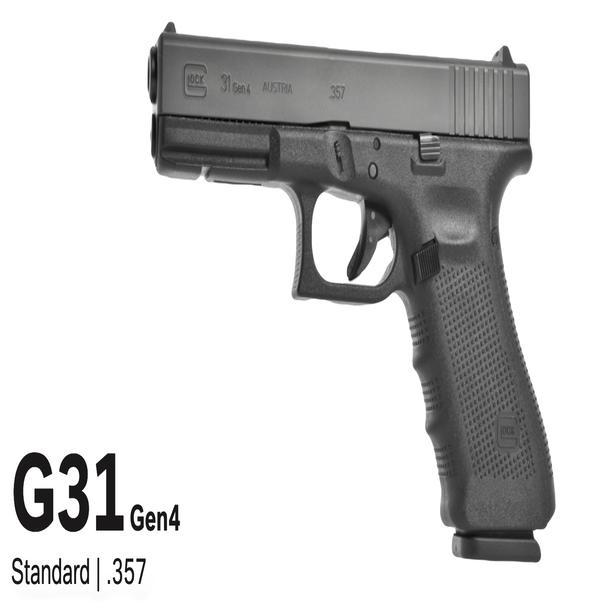Firearm: (133, 16, 591, 561)
